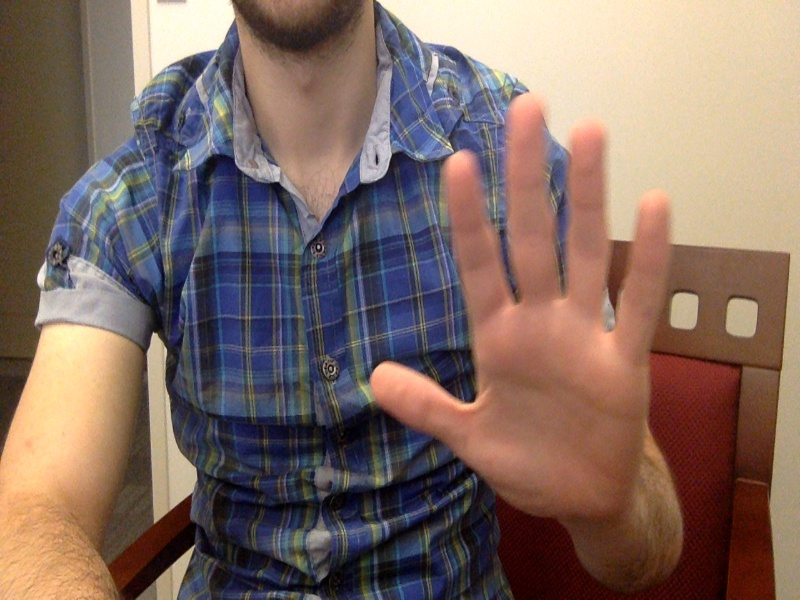5-hand: (371, 94, 676, 524)
